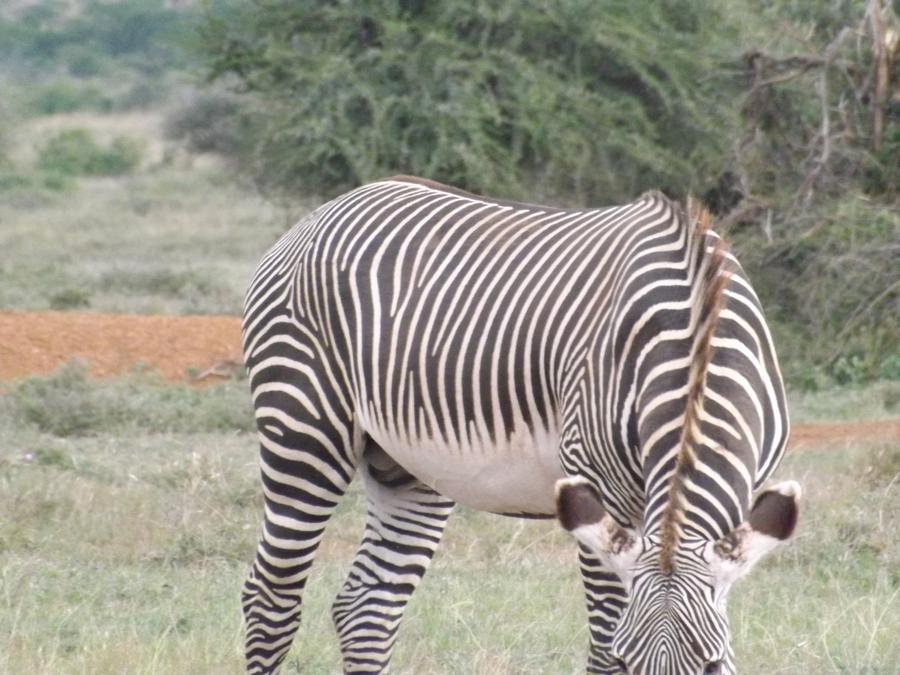zebra_grevys: (229, 157, 613, 488)
